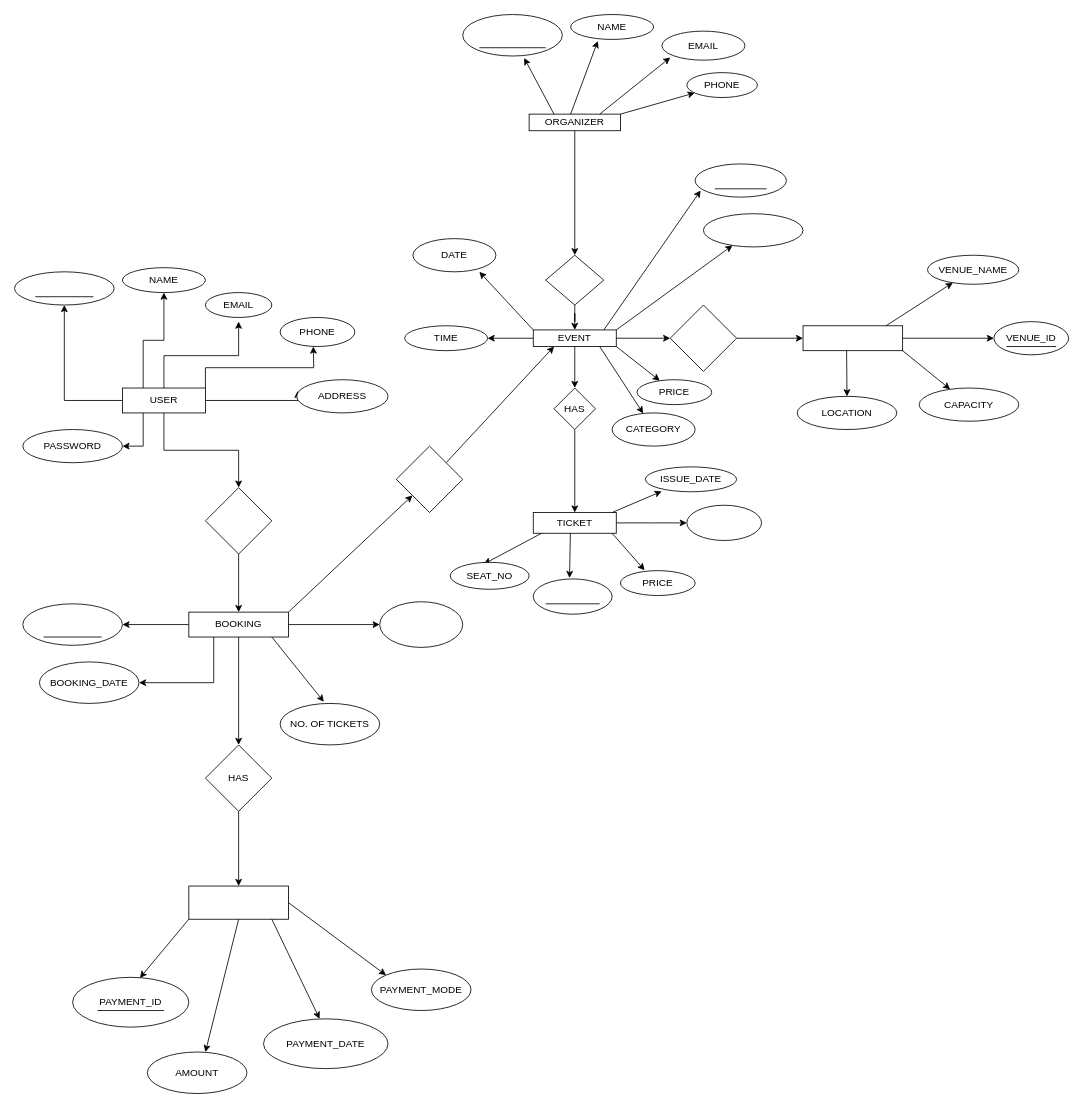
The diagram is 1083 pixels wide and 1108 high, and some of its shapes have lost their labels. The shapes that lost their labels are listed below. From the top down, each one's centre as x and y in pixels, then its label:
[512,35]: ORGANIZER_ID
[740,180]: EVENT_ID
[753,230]: EVENT NAME
[64,288]: USER_ID
[574,279]: Organises
[703,337]: HELD_AT
[852,338]: VENUE
[429,479]: FOR
[238,520]: MAKES
[724,522]: TICKET TYPE
[572,596]: TICKET_ID
[72,624]: BOOKING_ID
[421,624]: TOTAL AMOUNT
[238,902]: PAYMENT
